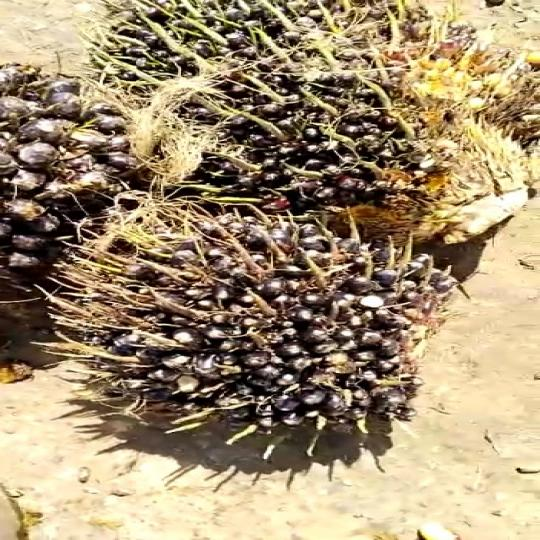mentah: (62, 0, 540, 246), (36, 184, 424, 448), (0, 61, 140, 288)
